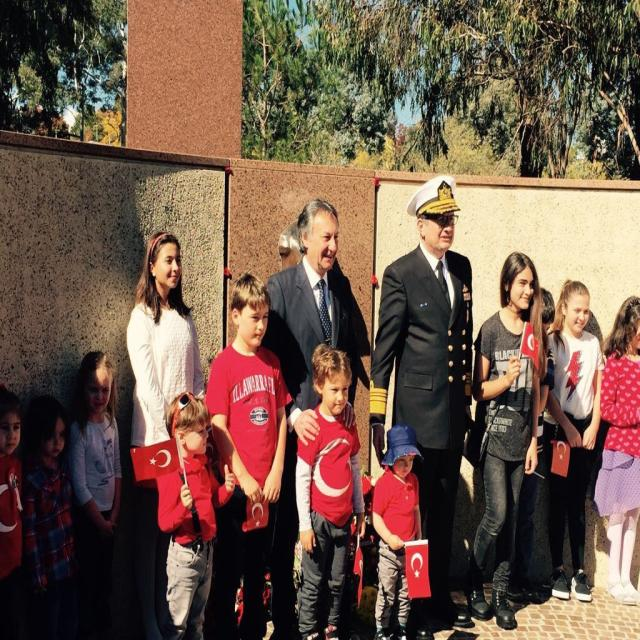body: (370, 172, 476, 640), (260, 198, 358, 610), (201, 269, 293, 639), (462, 250, 544, 632), (293, 340, 366, 639), (124, 228, 206, 488), (153, 390, 236, 639), (545, 277, 607, 604), (68, 348, 125, 634), (16, 393, 78, 639), (592, 292, 640, 608), (511, 287, 556, 601), (369, 421, 432, 639), (0, 385, 34, 639)
